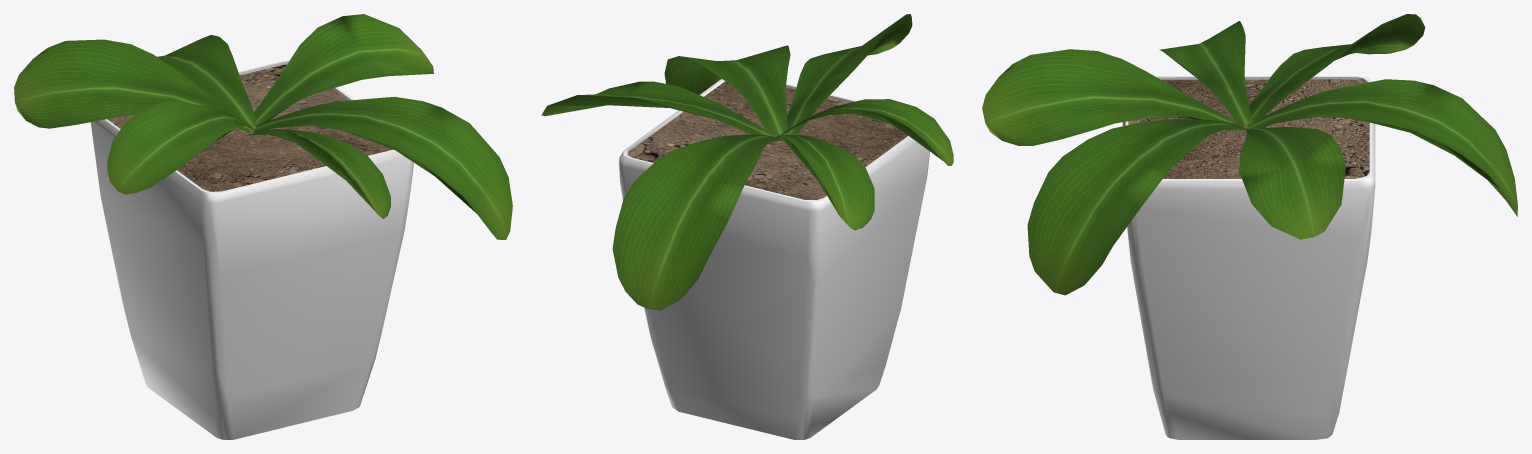
Rendered from Plant 3.FBX.
3 views of the same model, side by side, from view 1: azimuth 30°, elevation 25°; view 2: azimuth 150°, elevation 25°; view 3: azimuth 270°, elevation 25° (orthographic). The views are drawn at different scales.
Visible parts, largest first — view 1: plant 3; view 2: plant 3; view 3: plant 3.
Boxes of the visible parts, left/top/right/bottom form: plant 3: left=14, top=14, right=512, bottom=439; plant 3: left=541, top=14, right=953, bottom=439; plant 3: left=982, top=14, right=1517, bottom=439.
Size of the model in its own units: 23.24 by 19.94 by 28.55.
2 materials, 2 textured.
